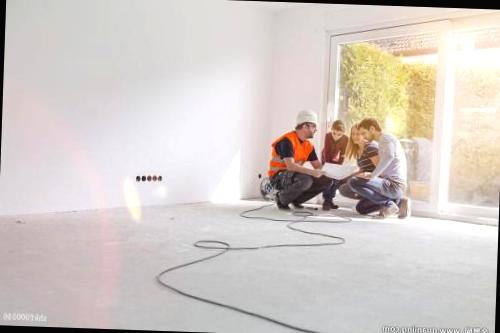no_helmet: (358, 114, 380, 140), (346, 121, 366, 146), (327, 116, 345, 142)
